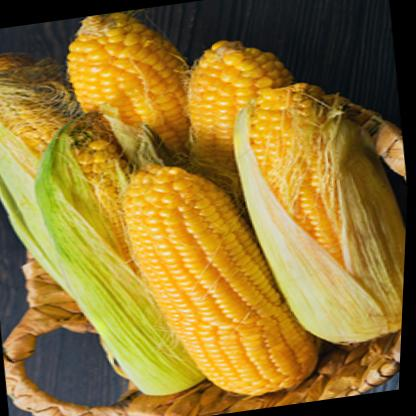corn: (160, 15, 415, 370), (97, 137, 333, 414), (58, 1, 203, 180)
